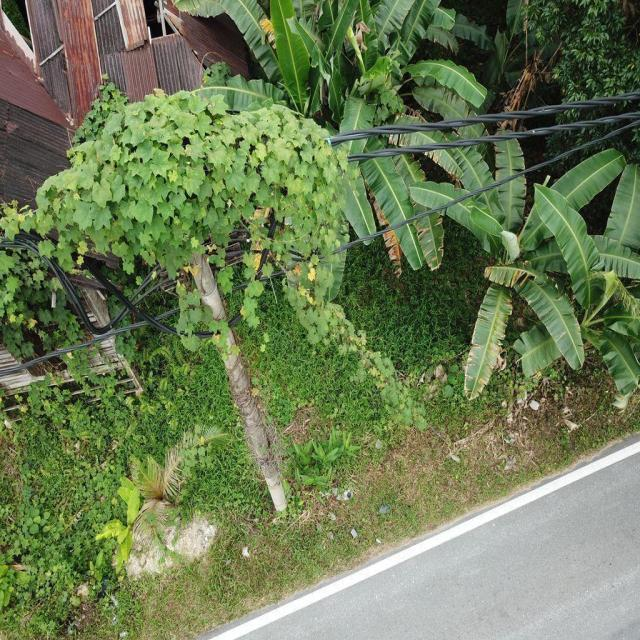critical vegetation: (36, 79, 347, 298), (174, 312, 284, 490), (290, 309, 434, 433)
